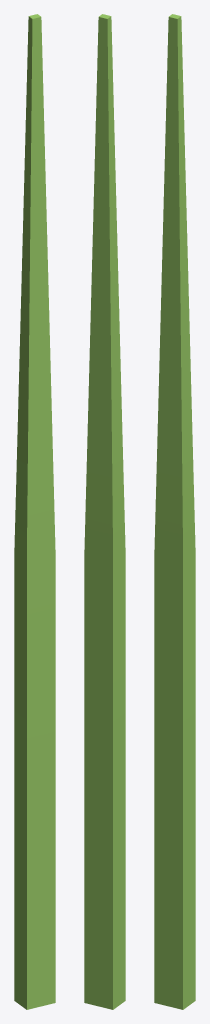
The model's file is Brooks_Fern_Monstera_Original Stem.fbx.
The picture shows the model from 3 angles, left to right: view 1: azimuth 30°, elevation 25°; view 2: azimuth 150°, elevation 25°; view 3: azimuth 330°, elevation 25°; orthographic projection.
Visible parts, largest first — view 1: Stem; view 2: Stem; view 3: Stem.
Boxes of the visible parts, left/top/right/bottom form: Stem: left=14, top=14, right=55, bottom=1009; Stem: left=84, top=14, right=125, bottom=1009; Stem: left=154, top=14, right=195, bottom=1009.
Bounding box in the file's own units: 0.969 × 31.75 × 0.7248.
